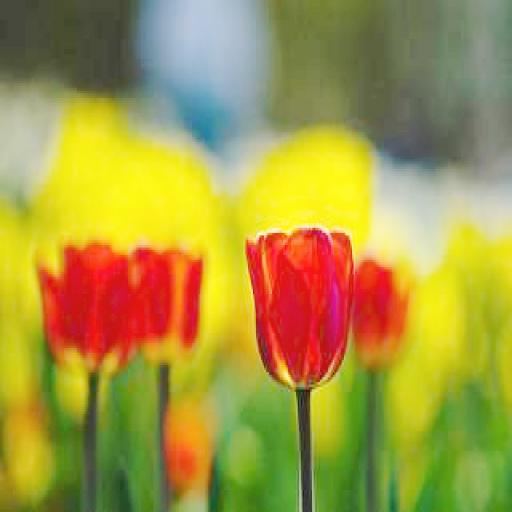tulip: (248, 223, 355, 389)
